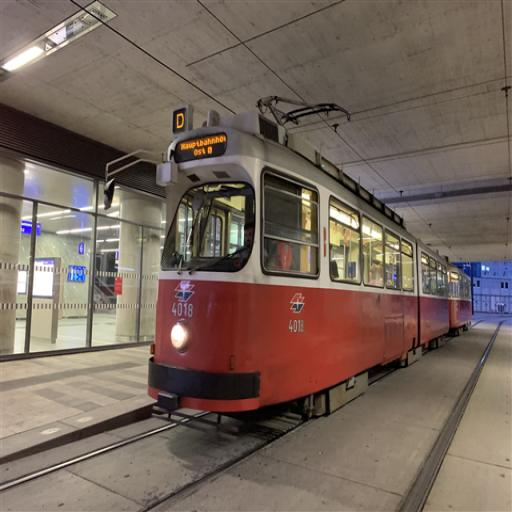E2-Tram: (146, 98, 474, 422)
